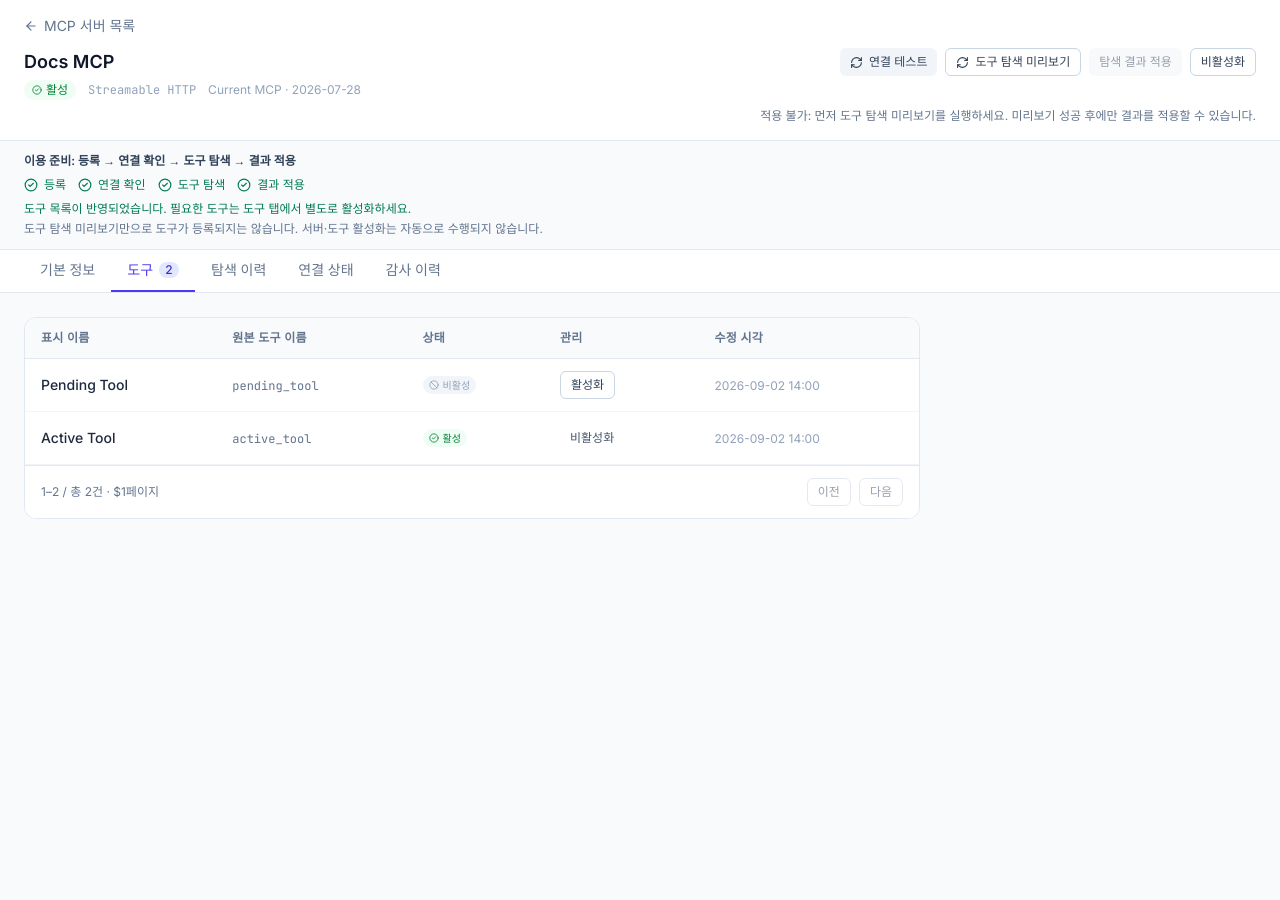
Scenario: MCP server tool list: inline lifecycle and tab preservation › can cancel without POST and deactivates ACTIVE row with separate confirmation
Click the button with aria-label "도구 비활성화: Active Tool" at point(592, 438), box [560, 424, 624, 452]
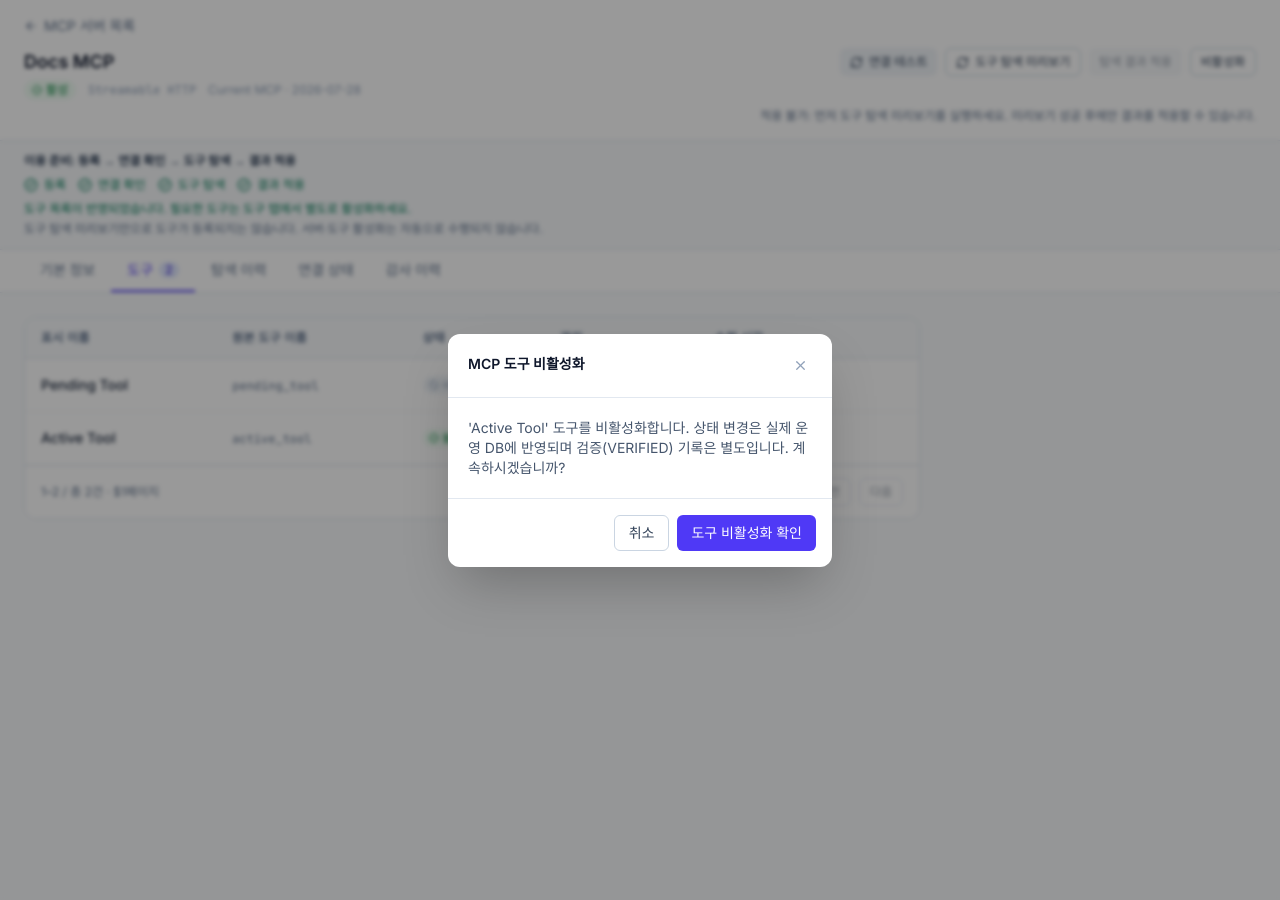
Click the button "취소" at point(642, 532), box [614, 514, 670, 550]
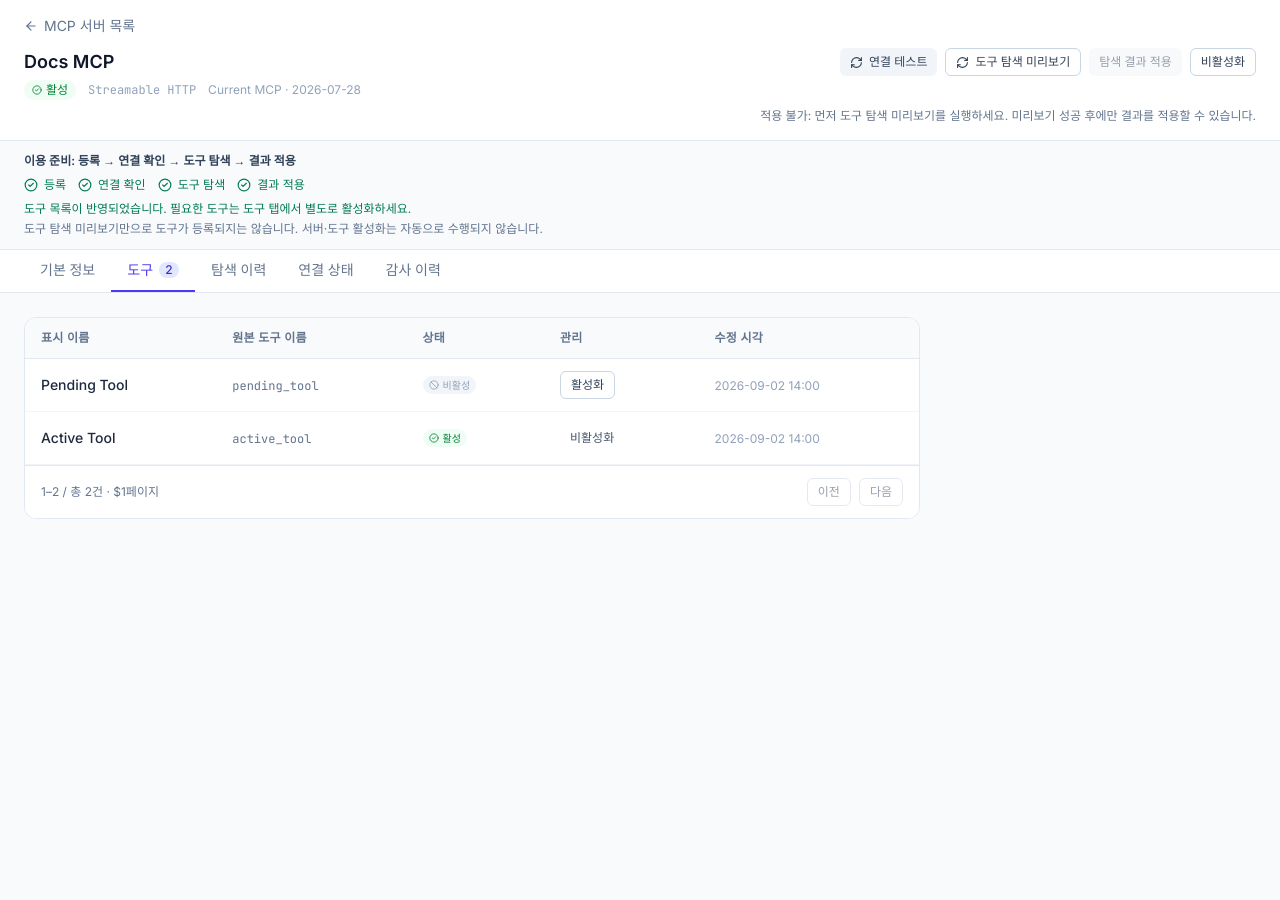
Click the button with aria-label "도구 비활성화: Active Tool" at point(592, 438), box [560, 424, 624, 452]
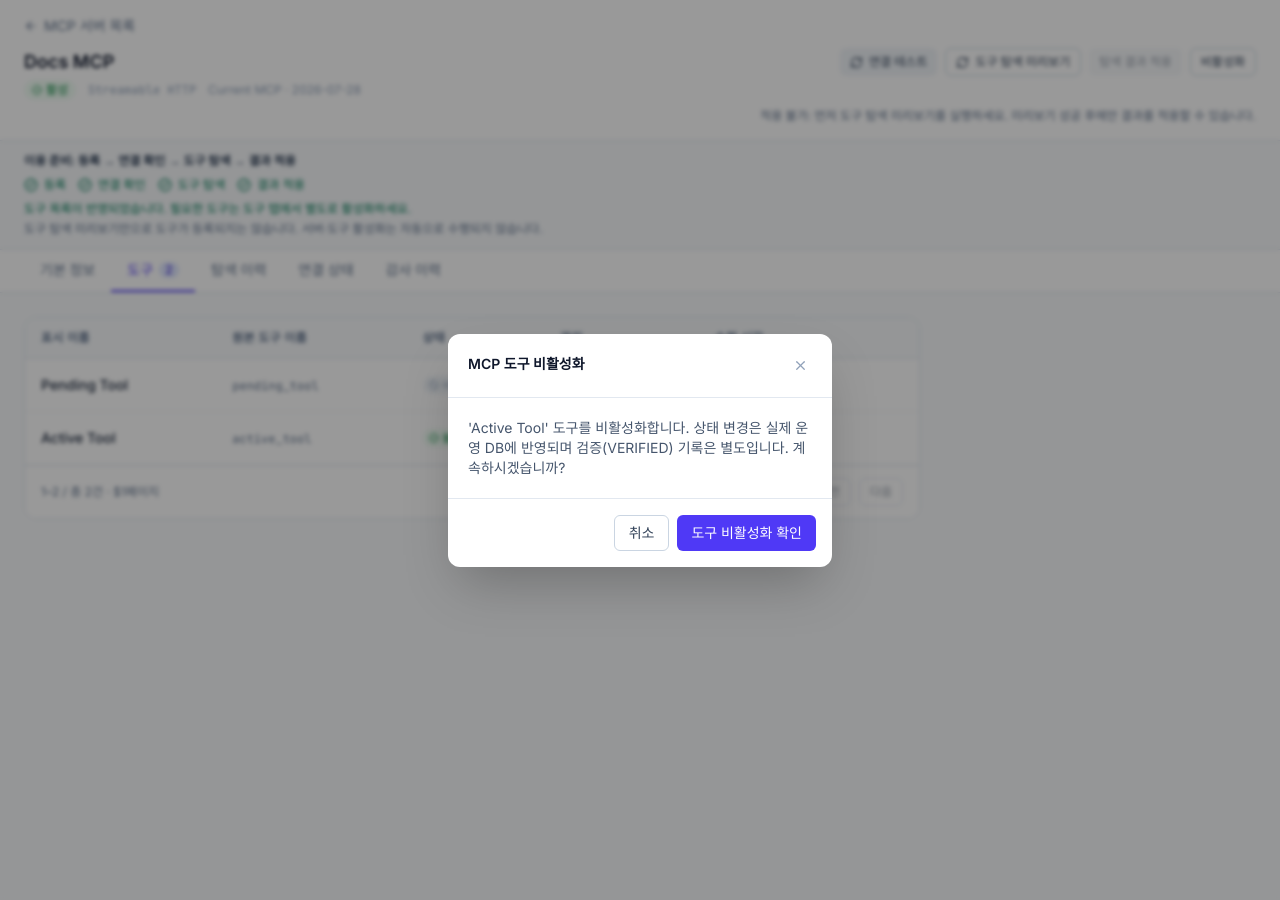
Click the button "도구 비활성화 확인" at point(747, 532), box [678, 514, 816, 550]
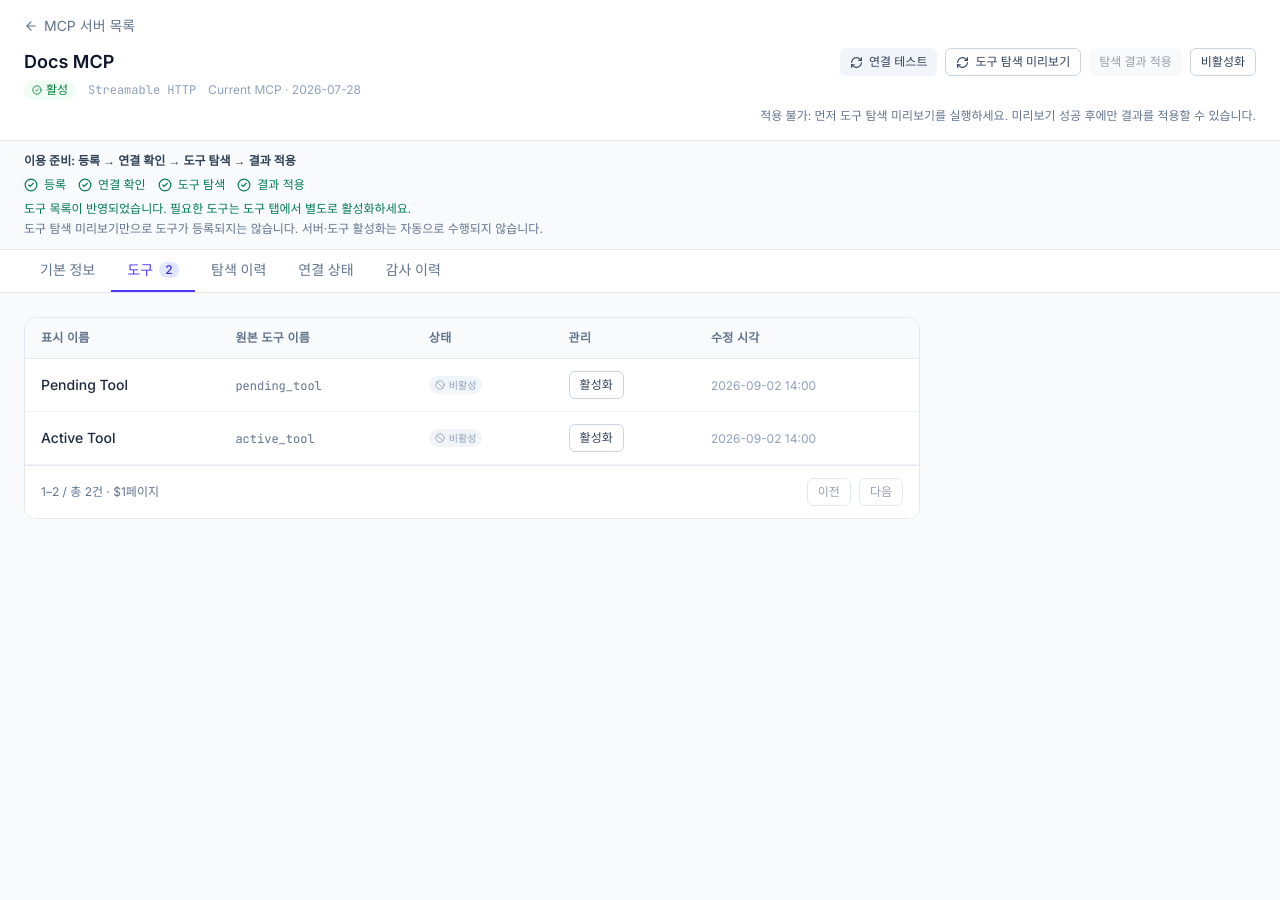
Expected: the button with aria-label "도구 활성화: Active Tool" is shown, [569, 424, 624, 452]
